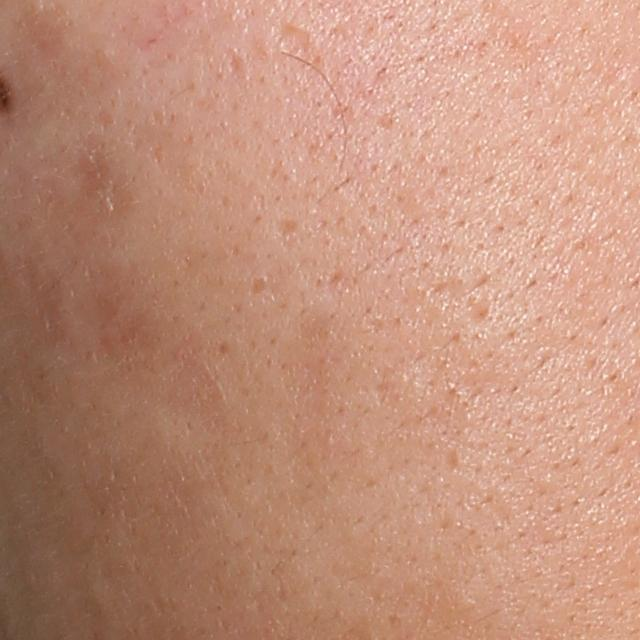atrophic_scar: (274, 216, 299, 241), (325, 267, 347, 290), (443, 446, 461, 474), (470, 301, 491, 323)
